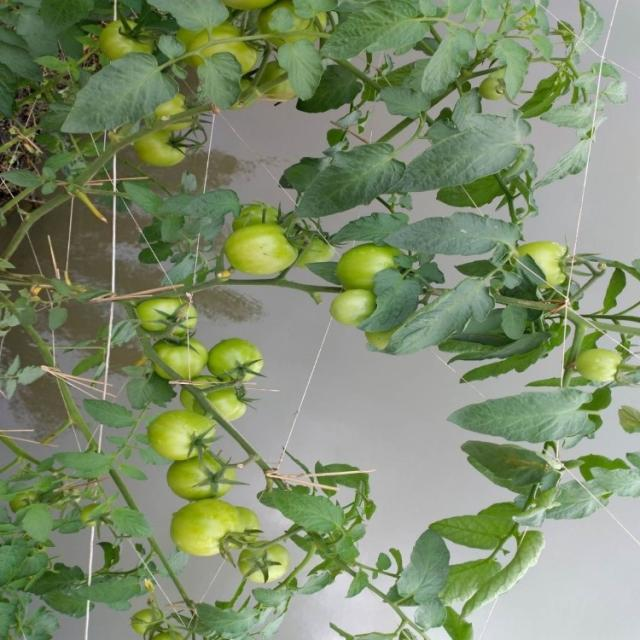tomato: (151, 483, 268, 571), (216, 224, 325, 296), (146, 442, 248, 505), (230, 529, 311, 595), (127, 292, 231, 341), (204, 328, 279, 395), (146, 401, 221, 467), (132, 113, 197, 186), (150, 333, 226, 393), (204, 19, 282, 77), (327, 239, 407, 295), (185, 374, 266, 426), (520, 231, 575, 297), (573, 342, 633, 393), (325, 292, 382, 342), (232, 200, 299, 240), (97, 15, 150, 64)
